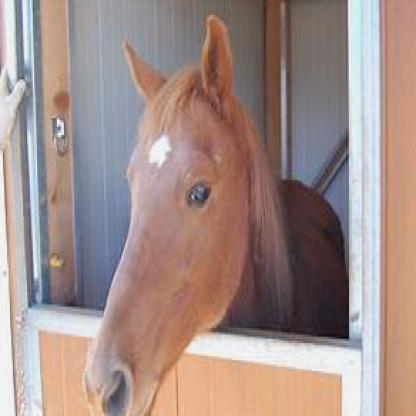horse: (84, 15, 352, 414)
